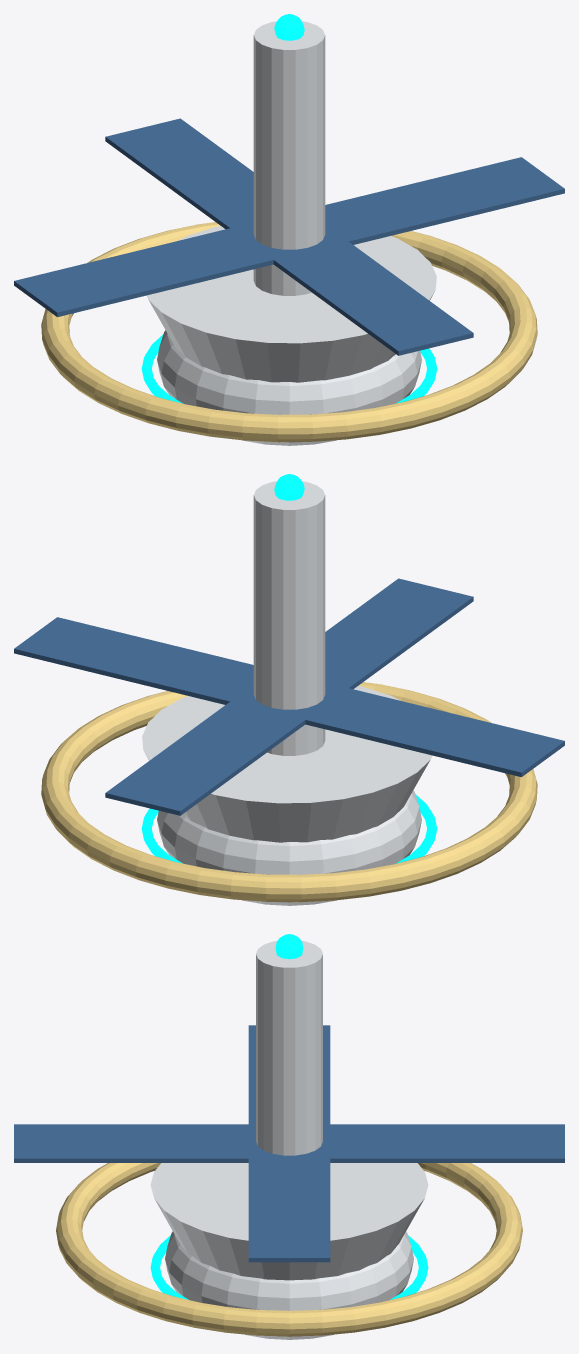
The model's file is saturn-ring-observatory.glb.
3 views of the same model, one above another, from view 1: azimuth 30°, elevation 25°; view 2: azimuth 150°, elevation 25°; view 3: azimuth 270°, elevation 25° (orthographic). The views are drawn at different scales.
Visible parts, largest first — view 1: station_body, rotor_ring; view 2: station_body, rotor_ring; view 3: station_body, rotor_ring.
Part boxes in pixels (box(x1,y1,x2,y2)): station_body: box(14, 14, 564, 445); rotor_ring: box(41, 222, 537, 442); station_body: box(14, 474, 564, 905); rotor_ring: box(41, 682, 537, 902); station_body: box(14, 934, 564, 1339); rotor_ring: box(56, 1163, 522, 1336).
Bounding box in the file's own units: 2.3 × 1.78 × 2.3.
